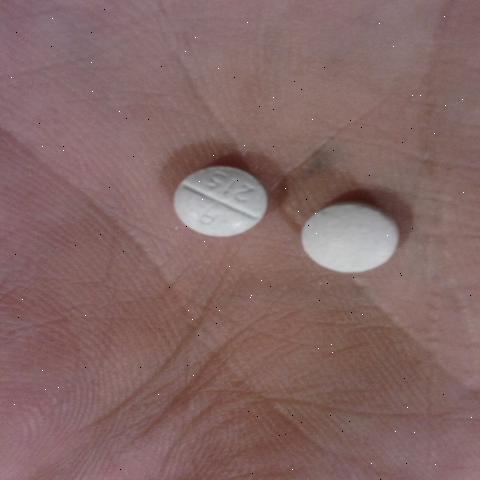Pill: (148, 136, 281, 255), (286, 179, 409, 304)
